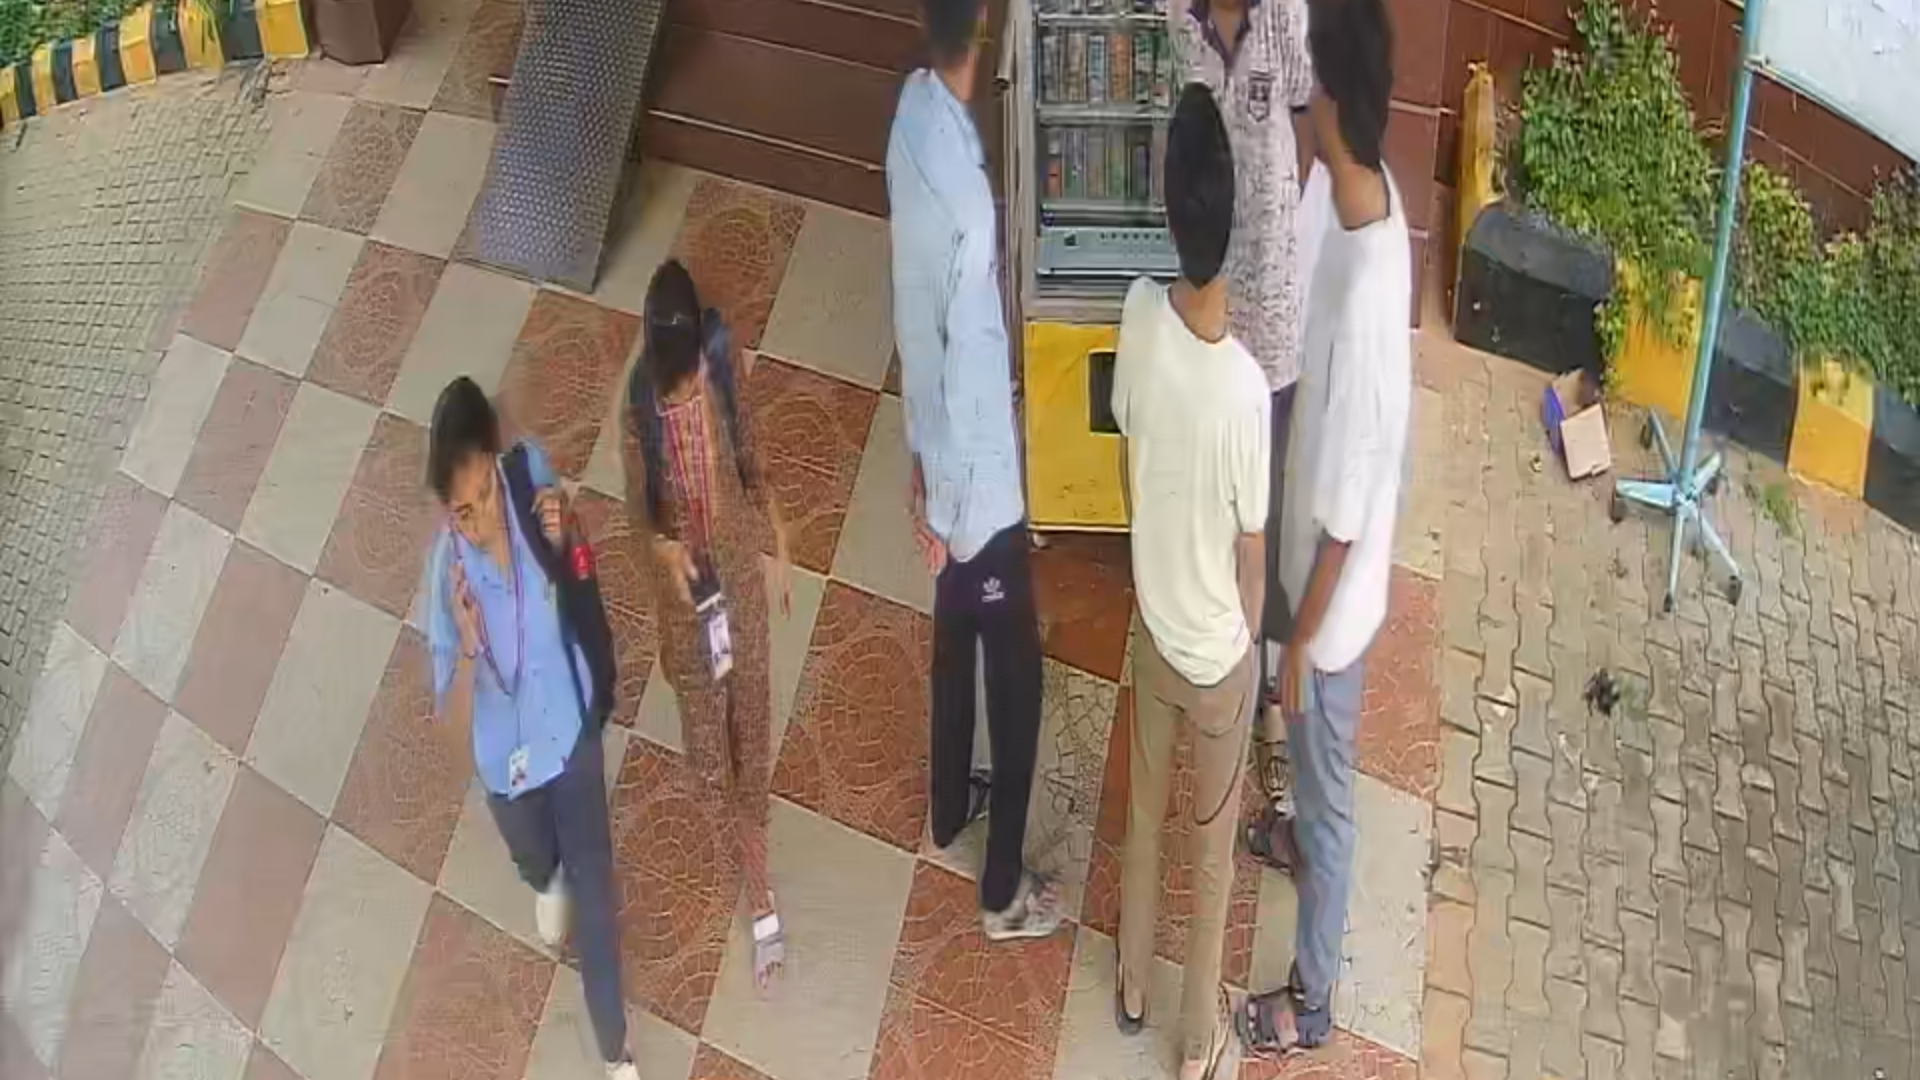not intruder: (422, 389, 674, 1075), (616, 281, 825, 1004)
